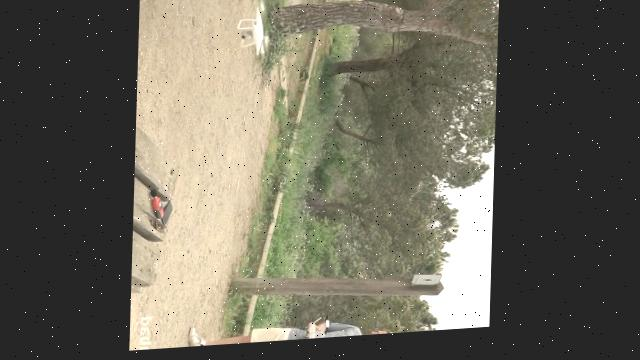drone: (237, 0, 273, 62)
